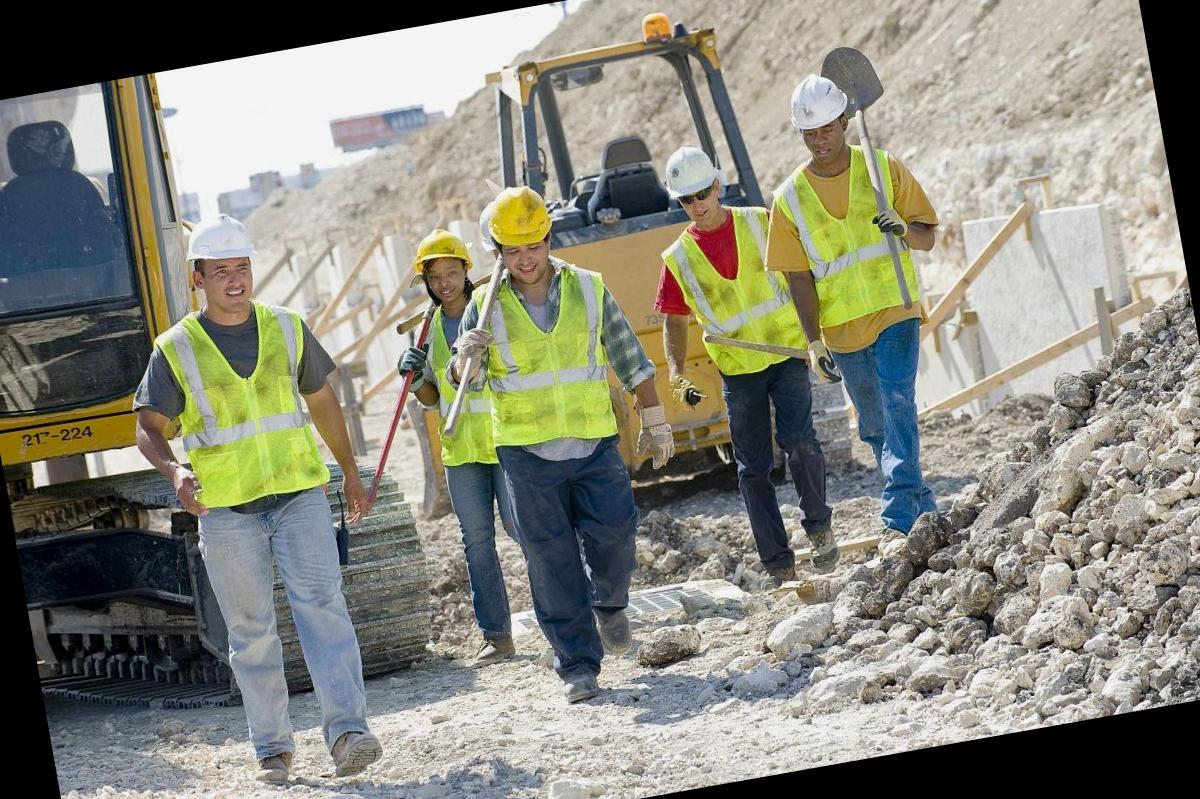helmet: (481, 185, 558, 259), (177, 214, 264, 277), (783, 66, 857, 134), (656, 140, 726, 205), (410, 223, 481, 270)
person: (107, 199, 421, 799), (441, 180, 708, 716), (750, 54, 990, 564), (645, 123, 869, 625), (385, 213, 557, 678)
